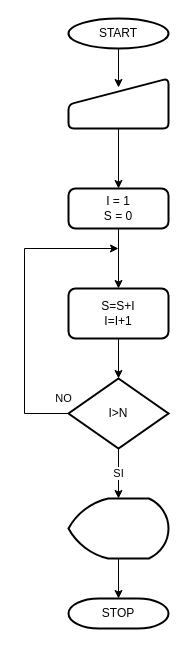
Image size: 187x646. Some labels were removed from this diagram. The box of each missing label's shape, as (x1, y1, x2, y2) in pixels:
LEGGI N: (67, 77, 169, 129)
SCRIVI S: (67, 497, 169, 559)
